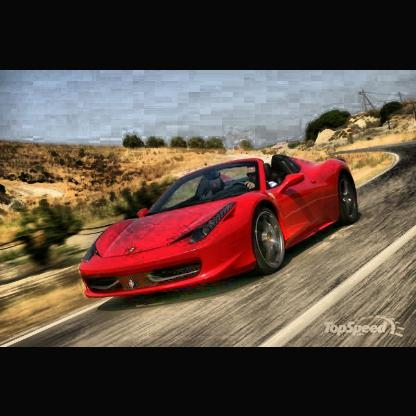Ferrari 458 Italia Convertible 2012: (72, 151, 364, 297)
